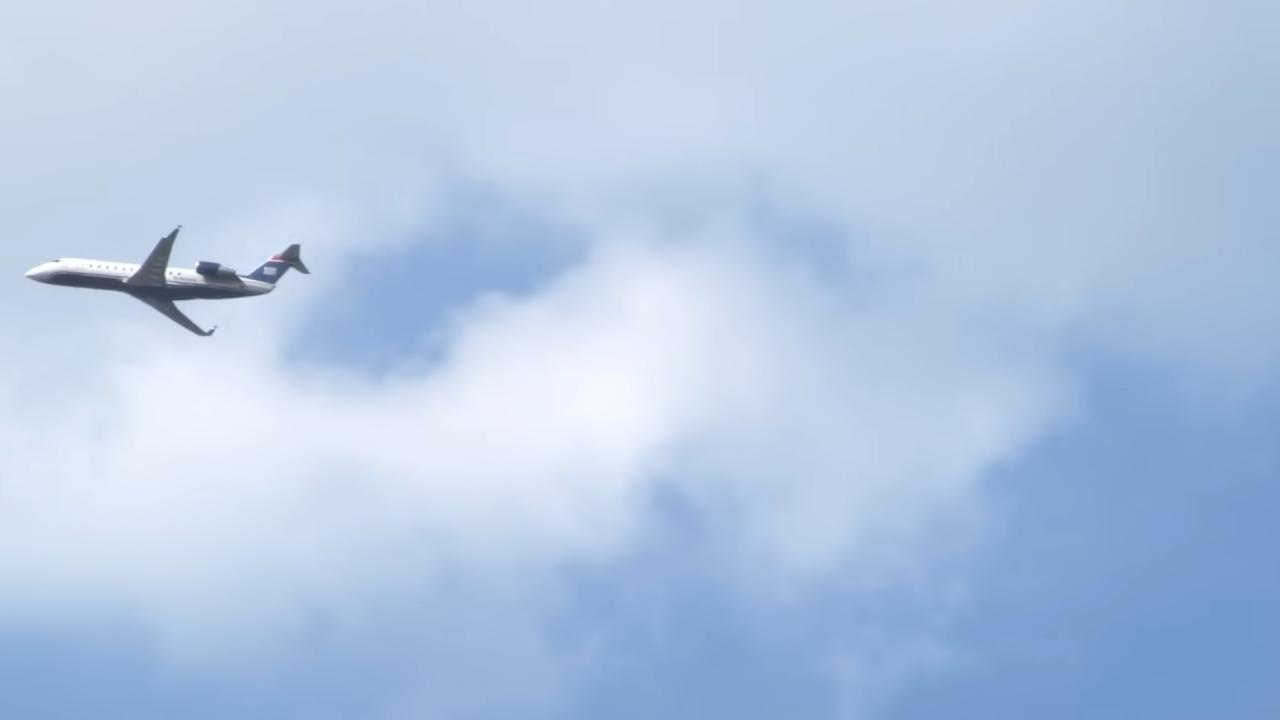Airplane: (11, 208, 316, 350)
